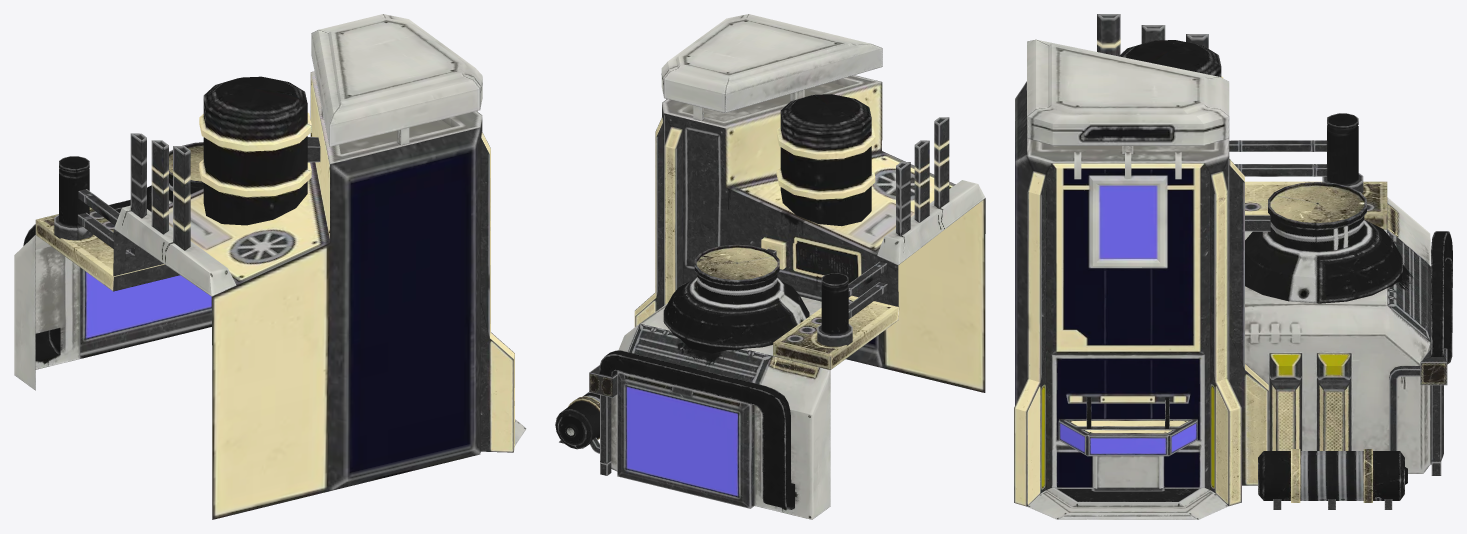
The model's file is futuristic_building (2).glb.
3 views of the same model, side by side, from view 1: azimuth 30°, elevation 25°; view 2: azimuth 150°, elevation 25°; view 3: azimuth 270°, elevation 25° (orthographic). The views are drawn at different scales.
Visible parts, largest first — view 1: Cylinder003_08 - Default_0; view 2: Cylinder003_08 - Default_0; view 3: Cylinder003_08 - Default_0.
Part boxes in pixels (<box>): Cylinder003_08 - Default_0: <box>14,14,526,519</box>; Cylinder003_08 - Default_0: <box>555,14,985,519</box>; Cylinder003_08 - Default_0: <box>1014,14,1452,519</box>.
Size of the model in its own units: 55.05 by 59.99 by 62.22.
1 material, 1 textured.
